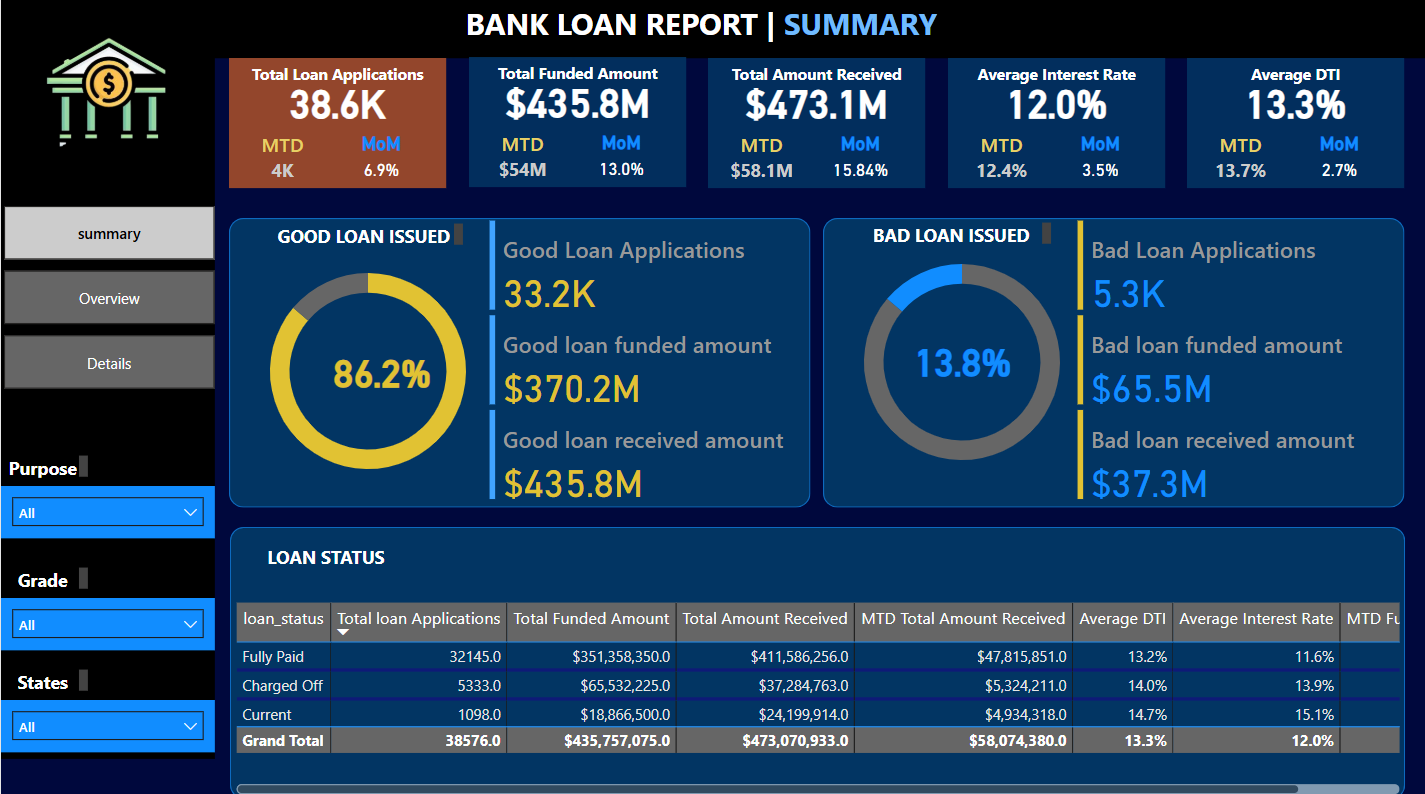

Layout of this report page (visuals, bound fields, positions):
{"tool":"powerbi","page":{"name":"summary","canvas":[1280,720],"ordinal":0},"visuals":[{"type":"slicer","fields":{"Values":["Bank_loan_data.purpose"]},"box":[0,439.3,192.1,47.2],"z":0,"group":"g13"},{"type":"shape","box":[205.9,476.1,1054.6,243.8],"z":0},{"type":"slicer","fields":{"Values":["Bank_loan_data.grade"]},"box":[0,539.4,192.1,47.2],"z":0,"group":"g12"},{"type":"slicer","fields":{"Values":["Bank_loan_data.address_state"]},"box":[0,631.4,192.1,47.2],"z":0,"group":"g11"},{"type":"shape","box":[0,0,1280,55],"z":1000},{"type":"textbox","box":[0,407.1,82.8,29.9],"z":1000,"group":"g13"},{"type":"textbox","box":[0,507.2,82.8,29.9],"z":1000,"group":"g12"},{"type":"textbox","box":[0,599.2,82.8,29.9],"z":1000,"group":"g11"},{"type":"textbox","box":[412,0,458,55],"z":2000},{"type":"shape","box":[420,54,194.8,116.7],"z":3000,"group":"g2"},{"type":"group","id":"g1","title":"Group 1","box":[205,55,195,117],"z":3000},{"type":"shape","box":[205,55,194.8,116.7],"z":3000,"group":"g3"},{"type":"shape","box":[635,55,194.8,116.7],"z":3000,"group":"g4"},{"type":"shape","box":[850,55,194.8,116.7],"z":3000,"group":"g5"},{"type":"shape","box":[1065,55,194.8,116.7],"z":3000,"group":"g6"},{"type":"card","fields":{"Values":["Measures (2).Total Funded Amount"]},"box":[420,65.6,194.8,54],"z":4000,"group":"g2"},{"type":"card","fields":{"Values":["Measures (2).Total loan Applications"]},"box":[205,66.6,194.8,54],"z":4000,"group":"g3"},{"type":"card","fields":{"Values":["Measures (2).Total Amount Received"]},"box":[635,66.6,194.8,54],"z":4000,"group":"g4"},{"type":"card","fields":{"Values":["Measures (2).Average Interest Rate"]},"box":[850,66.6,194.8,54],"z":4000,"group":"g5"},{"type":"card","fields":{"Values":["Measures (2).Average DTI"]},"box":[1065,66.6,194.8,54],"z":4000,"group":"g6"},{"type":"shape","box":[205,198,522,260],"z":4000},{"type":"group","id":"g2","title":"Group 3","box":[420,54,195,117],"z":4001,"group":"g7"},{"type":"group","id":"g3","title":"Group 2","box":[205,55,195,117],"z":4001,"group":"g1"},{"type":"group","id":"g4","title":"Group 3","box":[635,55,195,117],"z":4001,"group":"g8"},{"type":"group","id":"g5","title":"Group 3","box":[850,55,195,117],"z":4001,"group":"g9"},{"type":"group","id":"g6","title":"Group 3","box":[1065,55,195,117],"z":4001,"group":"g10"},{"type":"textbox","box":[420,54,195,30],"z":5000,"group":"g2"},{"type":"textbox","box":[205,55,195,30],"z":5000,"group":"g3"},{"type":"textbox","box":[635,55,195,30],"z":5000,"group":"g4"},{"type":"textbox","box":[850,55,195,30],"z":5000,"group":"g5"},{"type":"textbox","box":[1065,55,195,30],"z":5000,"group":"g6"},{"type":"donutChart","fields":{"Category":["Bank_loan_data.Good vs Bad loan"],"Y":["Measures (2).Total loan Applications"]},"box":[204.7,220.8,249.6,230],"z":5000},{"type":"group","id":"g7","title":"Group 1","box":[420,54,195,117],"z":6000},{"type":"card","title":"MTD","fields":{"Values":["Measures (2).MTD Funded Amount"]},"box":[433.5,119.6,69.4,51.1],"z":6000,"group":"g2"},{"type":"card","title":"MTD","fields":{"Values":["Measures (2).MTD Loan Applications"]},"box":[218.5,120.6,69.4,51.1],"z":6000,"group":"g3"},{"type":"card","title":"MTD","fields":{"Values":["Measures (2).MTD Total Amount Received"]},"box":[648.5,120.6,69.4,51.1],"z":6000,"group":"g4"},{"type":"card","title":"MTD","fields":{"Values":["Measures (2).MTD Average interest Rate"]},"box":[863.5,120.6,69.4,51.1],"z":6000,"group":"g5"},{"type":"card","title":"MTD","fields":{"Values":["Measures (2).MTD Average DTI"]},"box":[1078.5,120.6,69.4,51.1],"z":6000,"group":"g6"},{"type":"card","title":"MoM","fields":{"Values":["Measures (2).MoM Total Funded Amount"]},"box":[518,120,78,51],"z":7000,"group":"g2"},{"type":"card","title":"MoM","fields":{"Values":["Measures (2).MoM Loan Application"]},"box":[303,121,78,51],"z":7000,"group":"g3"},{"type":"card","title":"MoM","fields":{"Values":["Measures (2).MoM Amount Received"]},"box":[733,121,78,51],"z":7000,"group":"g4"},{"type":"card","title":"MoM","fields":{"Values":["Measures (2).MoM Average Interest Rate"]},"box":[948,121,78,51],"z":7000,"group":"g5"},{"type":"card","title":"MoM","fields":{"Values":["Measures (2).MoM Average DTI"]},"box":[1163,121,78,51],"z":7000,"group":"g6"},{"type":"card","fields":{"Values":["Good vs Bad loan Measures.Good Loan %"]},"box":[282,309,120,54],"z":7000},{"type":"textbox","box":[240,198,180,30],"z":8000},{"type":"group","id":"g8","title":"Group 1","box":[635,55,195,117],"z":9000},{"type":"shape","box":[0,0,192.1,684.3],"z":10000},{"type":"group","id":"g9","title":"Group 1","box":[850,55,195,117],"z":11000},{"type":"group","id":"g10","title":"Group 1","box":[1065,55,195,117],"z":12000},{"type":"shape","box":[738,198,522,260],"z":13000},{"type":"cardVisual","fields":{"Data":["Good vs Bad loan Measures.Good Loan Applications","Good vs Bad loan Measures.Good loan funded amount","Good vs Bad loan Measures.Good loan received amount"]},"box":[433.6,195.5,299,262.2],"z":14000},{"type":"cardVisual","fields":{"Data":["Good vs Bad loan Measures.Bad Loan Applications","Good vs Bad loan Measures.Bad loan funded amount","Good vs Bad loan Measures.Bad loan received amount"]},"box":[961.4,195.5,299,262.2],"z":15000},{"type":"donutChart","fields":{"Category":["Bank_loan_data.Good vs Bad loan"],"Y":["Measures (2).Total loan Applications"]},"box":[738.3,212.8,249.6,230],"z":16000},{"type":"card","fields":{"Values":["Good vs Bad loan Measures.Bad Loan %"]},"box":[803.9,299,119.6,54.1],"z":17000},{"type":"textbox","box":[767.1,197.8,180.6,29.9],"z":18000},{"type":"tableEx","fields":{"Values":["Bank_loan_data.loan_status","Measures (2).Total loan Applications","Measures (2).Total Funded Amount","Measures (2).Total Amount Received","Measures (2).MTD Total Amount Received","Measures (2).Average DTI","Measures (2).Average Interest Rate","Measures (2).MTD Funded Amount"]},"box":[205.9,538.2,1054.6,181.7],"z":19000},{"type":"textbox","box":[218.5,486.5,147.2,40.3],"z":20000},{"type":"group","id":"g11","title":"Group 4","box":[0,599.2,192.1,79.4],"z":21000},{"type":"group","id":"g12","title":"Group 5","box":[0,507.2,192.1,79.4],"z":22000},{"type":"group","id":"g13","title":"Group 5","box":[0,407.1,192.1,79.4],"z":23000},{"type":"image","box":[1.2,28.8,192.1,127.7],"z":23001},{"type":"pageNavigator","box":[2.3,187.5,189.8,165.6],"z":23002}]}

Visuals, with their boxes in screenshot pixels (x1, y1, x2, y2), scaled from the page's 1280x720 canvas onto the 1425x794 screenshot:
slicer - Bank_loan_data.purpose: box=[0, 484, 214, 537]
shape: box=[229, 525, 1403, 793]
slicer - Bank_loan_data.grade: box=[0, 595, 214, 647]
slicer - Bank_loan_data.address_state: box=[0, 696, 214, 748]
shape: box=[0, 0, 1424, 61]
textbox: box=[0, 449, 92, 482]
textbox: box=[0, 559, 92, 592]
textbox: box=[0, 661, 92, 694]
textbox: box=[459, 0, 969, 61]
shape: box=[468, 60, 684, 188]
"Group 1" group: box=[228, 61, 445, 190]
shape: box=[228, 61, 445, 189]
shape: box=[707, 61, 924, 189]
shape: box=[946, 61, 1163, 189]
shape: box=[1186, 61, 1403, 189]
card - Measures (2).Total Funded Amount: box=[468, 72, 684, 132]
card - Measures (2).Total loan Applications: box=[228, 73, 445, 133]
card - Measures (2).Total Amount Received: box=[707, 73, 924, 133]
card - Measures (2).Average Interest Rate: box=[946, 73, 1163, 133]
card - Measures (2).Average DTI: box=[1186, 73, 1403, 133]
shape: box=[228, 218, 809, 505]
"Group 3" group: box=[468, 60, 685, 189]
"Group 2" group: box=[228, 61, 445, 190]
"Group 3" group: box=[707, 61, 924, 190]
"Group 3" group: box=[946, 61, 1163, 190]
"Group 3" group: box=[1186, 61, 1403, 190]
textbox: box=[468, 60, 685, 93]
textbox: box=[228, 61, 445, 94]
textbox: box=[707, 61, 924, 94]
textbox: box=[946, 61, 1163, 94]
textbox: box=[1186, 61, 1403, 94]
donutChart - Bank_loan_data.Good vs Bad loan x Measures (2).Total loan Applications: box=[228, 243, 506, 497]
"Group 1" group: box=[468, 60, 685, 189]
"MTD" card: box=[483, 132, 560, 188]
"MTD" card: box=[243, 133, 321, 189]
"MTD" card: box=[722, 133, 799, 189]
"MTD" card: box=[961, 133, 1039, 189]
"MTD" card: box=[1201, 133, 1278, 189]
"MoM" card: box=[577, 132, 664, 189]
"MoM" card: box=[337, 133, 424, 190]
"MoM" card: box=[816, 133, 903, 190]
"MoM" card: box=[1055, 133, 1142, 190]
"MoM" card: box=[1295, 133, 1382, 190]
card - Good vs Bad loan Measures.Good Loan %: box=[314, 341, 448, 400]
textbox: box=[267, 218, 468, 251]
"Group 1" group: box=[707, 61, 924, 190]
shape: box=[0, 0, 214, 755]
"Group 1" group: box=[946, 61, 1163, 190]
"Group 1" group: box=[1186, 61, 1403, 190]
shape: box=[822, 218, 1403, 505]
cardVisual - Good vs Bad loan Measures.Good Loan Applications x Good vs Bad loan Measures.Good loan funded amount: box=[483, 216, 816, 505]
cardVisual - Good vs Bad loan Measures.Bad Loan Applications x Good vs Bad loan Measures.Bad loan funded amount: box=[1070, 216, 1403, 505]
donutChart - Bank_loan_data.Good vs Bad loan x Measures (2).Total loan Applications: box=[822, 235, 1100, 488]
card - Good vs Bad loan Measures.Bad Loan %: box=[895, 330, 1028, 389]
textbox: box=[854, 218, 1055, 251]
tableEx - Bank_loan_data.loan_status x Measures (2).Total loan Applications: box=[229, 594, 1403, 793]
textbox: box=[243, 537, 407, 581]
"Group 4" group: box=[0, 661, 214, 748]
"Group 5" group: box=[0, 559, 214, 647]
"Group 5" group: box=[0, 449, 214, 537]
image: box=[1, 32, 215, 173]
pageNavigator: box=[3, 207, 214, 389]
